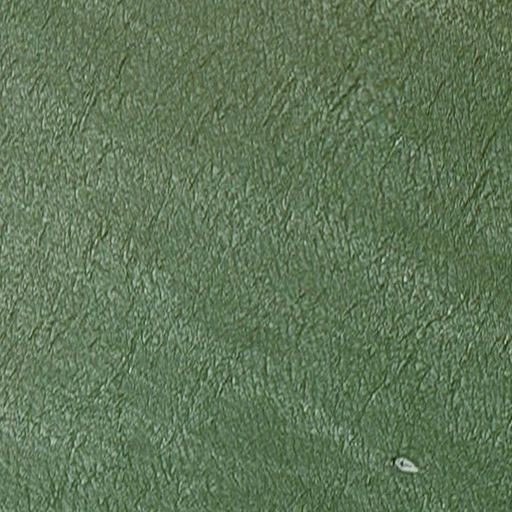ship: (390, 454, 420, 477)
